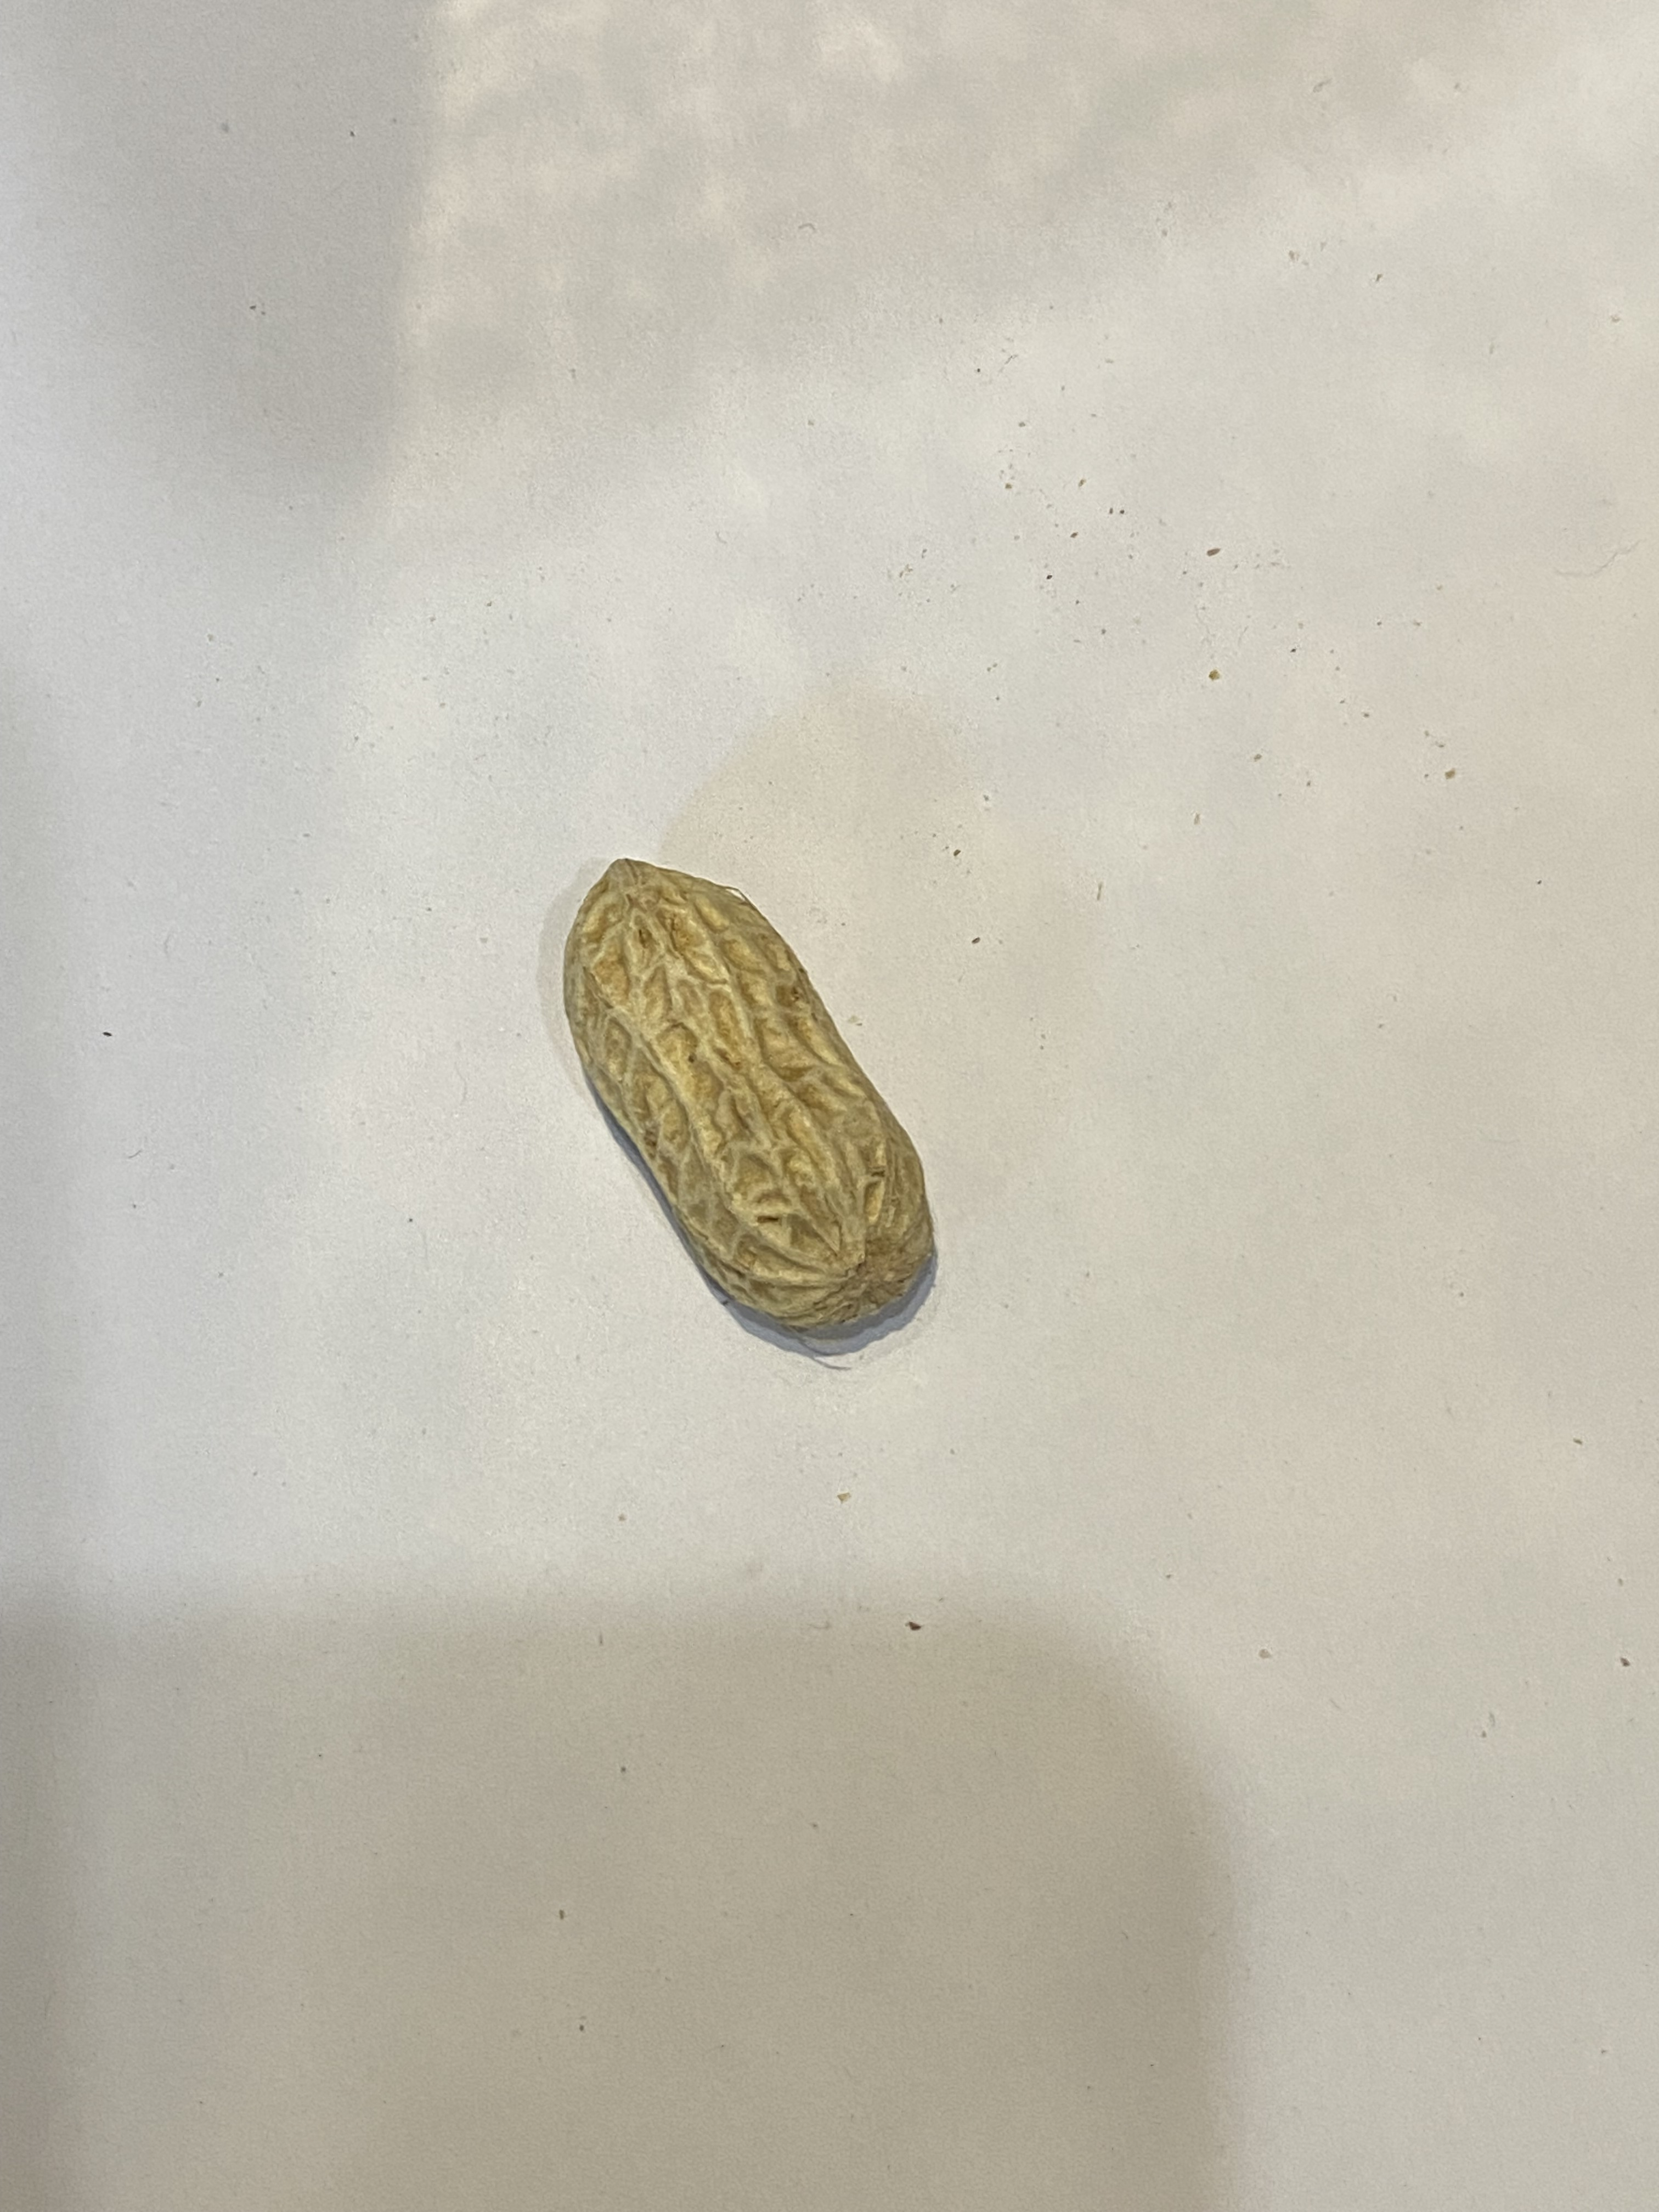kacang2: (556, 852, 953, 1346)
